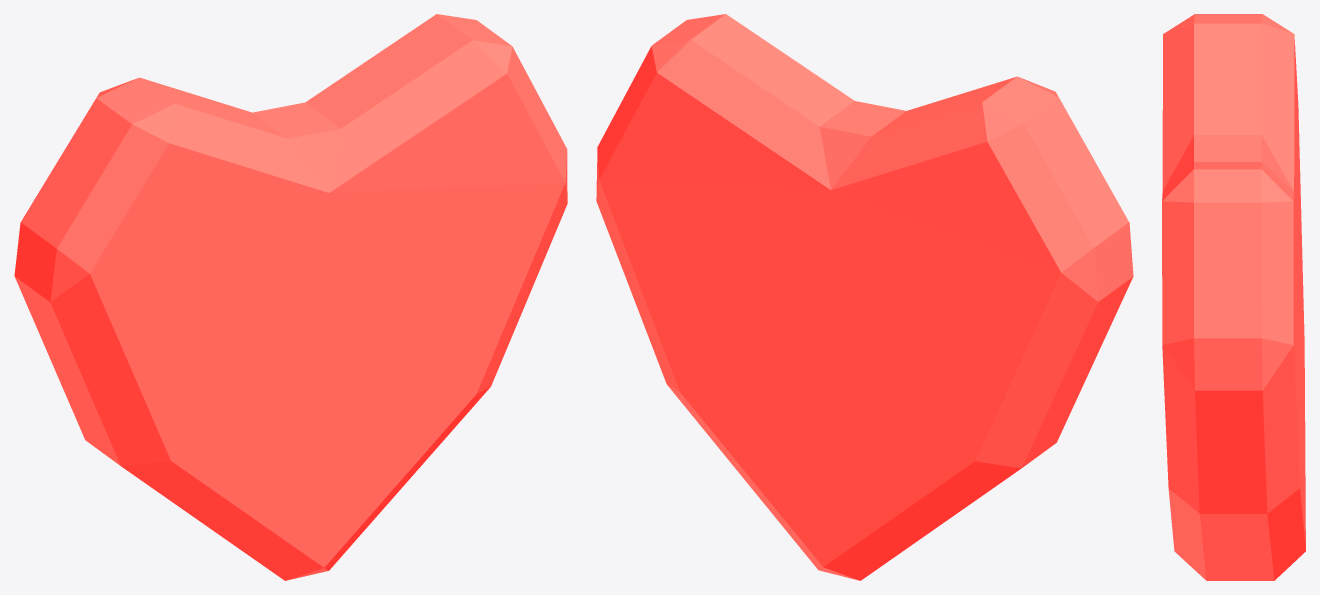
Rendered from crystal.glb.
3 renders of one model, left to right at view 1: azimuth 30°, elevation 25°; view 2: azimuth 150°, elevation 25°; view 3: azimuth 270°, elevation 25°, orthographic. The views are drawn at different scales.
Visible parts, largest first — view 1: Heart; view 2: Heart; view 3: Heart.
Boxes of the visible parts, box(x1,y1,x2,y2) form: Heart: box(14, 14, 567, 580); Heart: box(596, 14, 1133, 580); Heart: box(1162, 14, 1305, 580).
Size of the model in its own units: 4.94 by 4.69 by 1.26.
